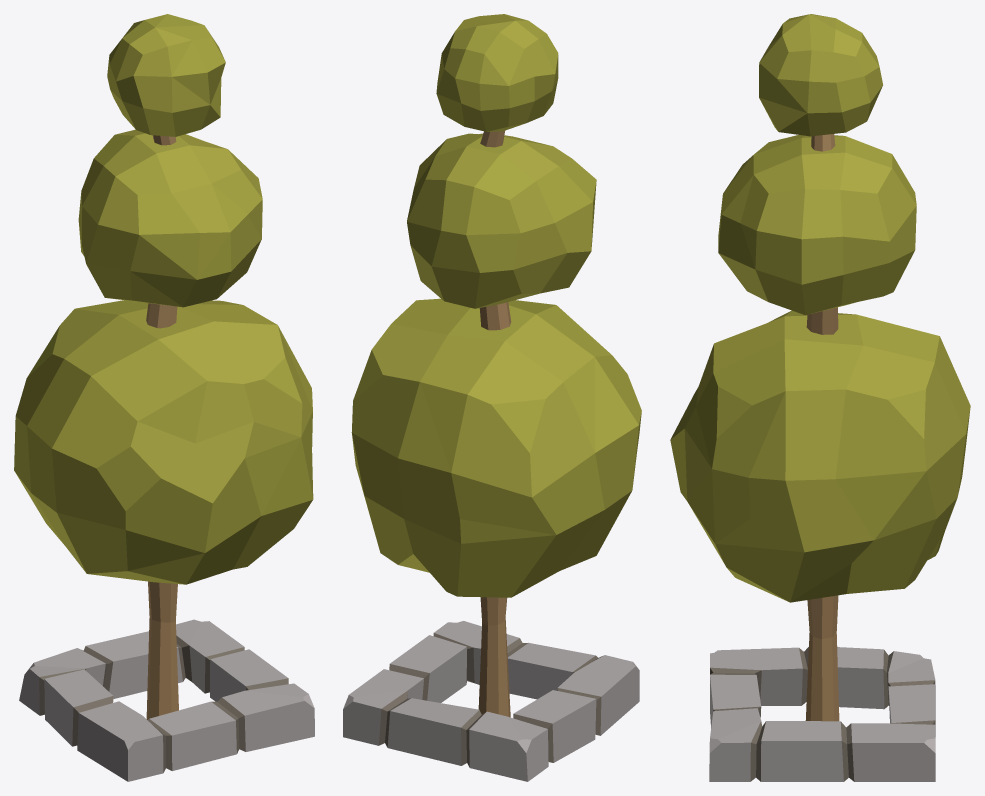
File: Topiary_Tree_Vege_01.glb
The picture shows the model from 3 angles, left to right: view 1: azimuth 30°, elevation 25°; view 2: azimuth 150°, elevation 25°; view 3: azimuth 270°, elevation 25°; orthographic projection. The views are drawn at different scales.
Parts seen in each view (by area): view 1: Topiary_Tree_Vege_01; view 2: Topiary_Tree_Vege_01; view 3: Topiary_Tree_Vege_01.
Part boxes in pixels (<box>): Topiary_Tree_Vege_01: <box>14,14,314,781</box>; Topiary_Tree_Vege_01: <box>343,14,641,781</box>; Topiary_Tree_Vege_01: <box>670,14,970,781</box>.
Size of the model in its own units: 1.99 by 5 by 1.91.
1 material, 1 textured.
